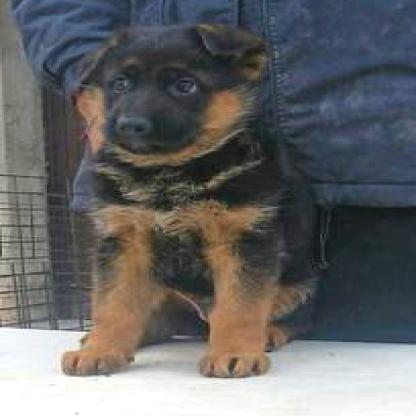dog: (59, 25, 330, 375)
